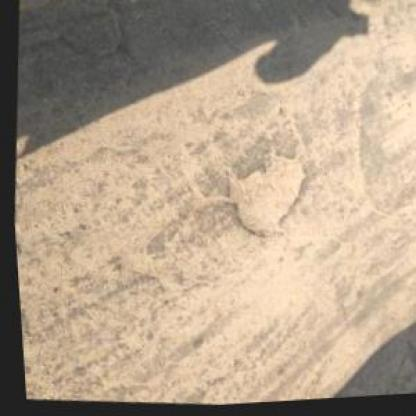pothole: (215, 147, 311, 250)
